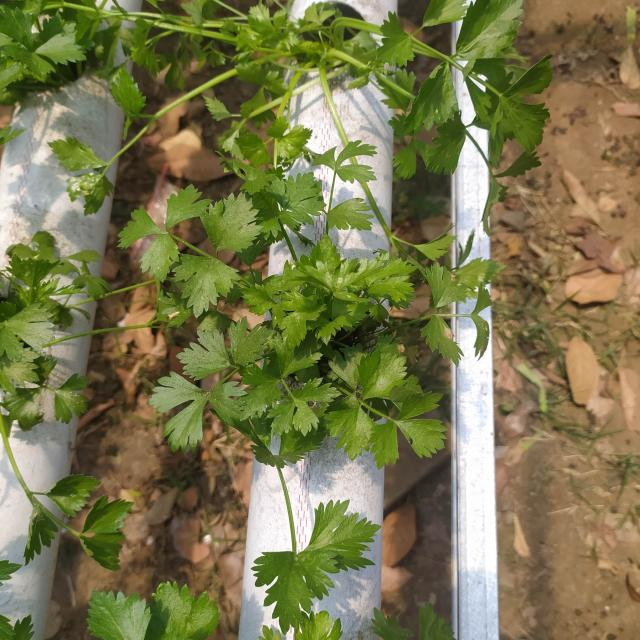Wet Waste: (158, 173, 476, 520)
